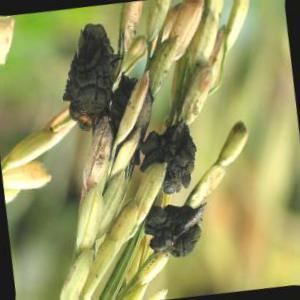False Smut: (78, 24, 115, 128), (153, 118, 197, 194), (155, 206, 206, 257)
